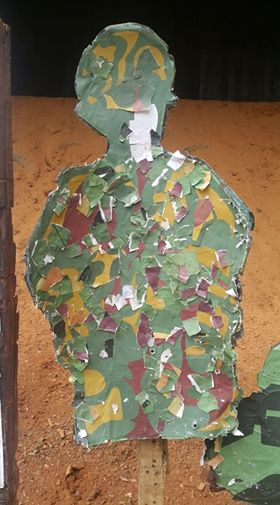Bullet: (192, 424, 198, 429), (149, 349, 154, 354), (89, 41, 93, 47)
